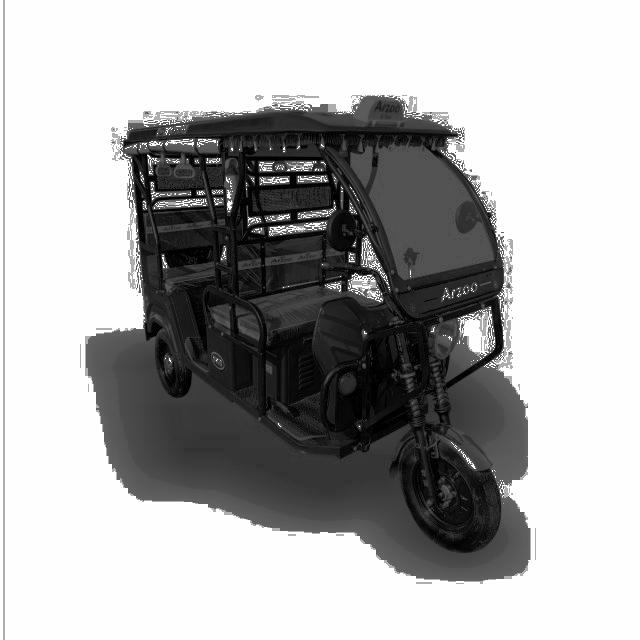Toto: (125, 104, 499, 555)
